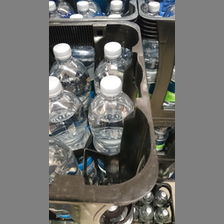water: (87, 76, 137, 152), (49, 76, 88, 151), (50, 40, 93, 102), (93, 43, 128, 90)
